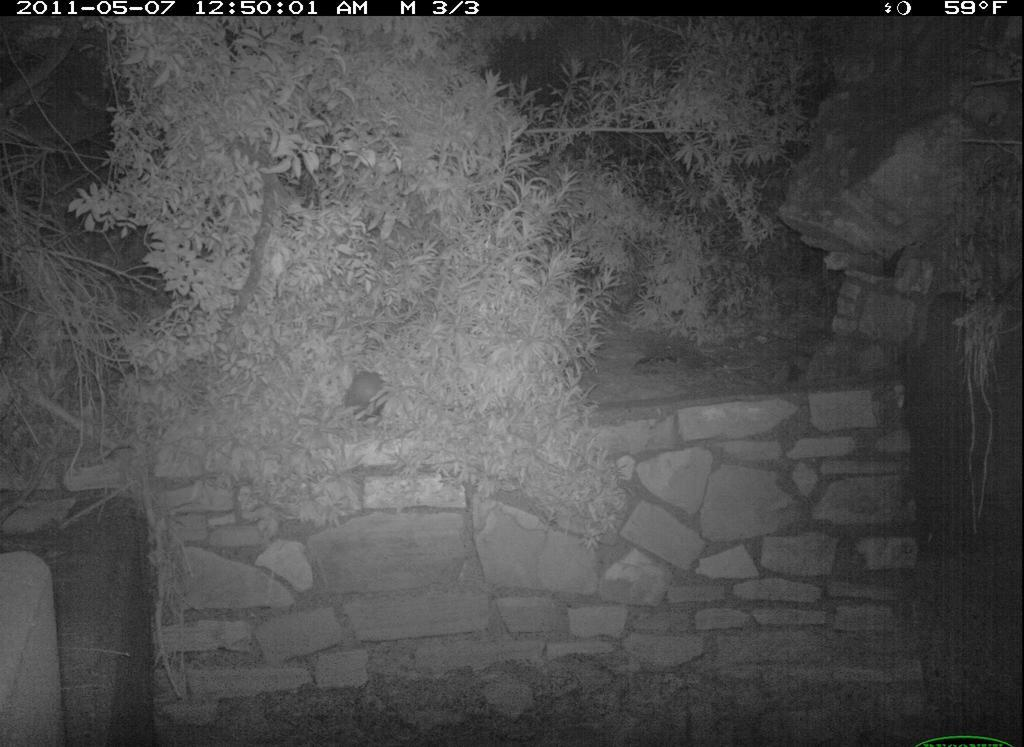opossum: (337, 359, 399, 433)
